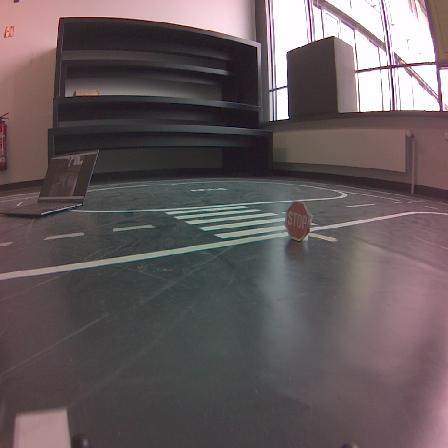STOP: (285, 202, 311, 240)
